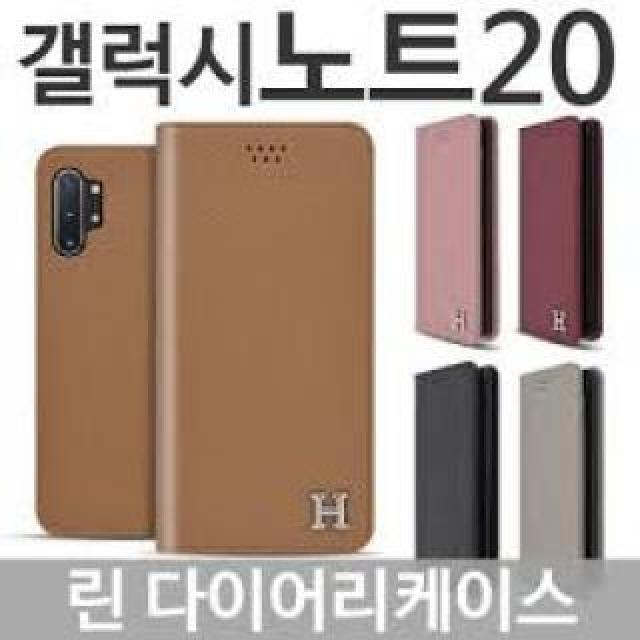smart phone: (7, 135, 170, 582)
